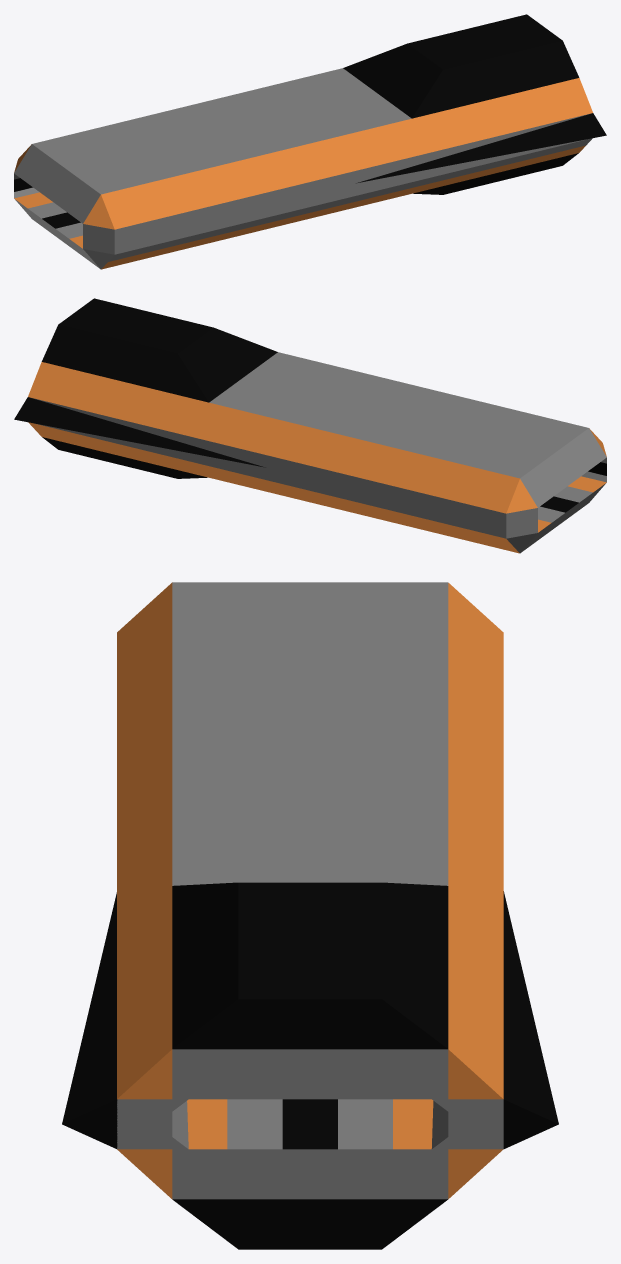
Rendered from Mothership.fbx.
3 renders of one model, top to bottom at view 1: azimuth 30°, elevation 25°; view 2: azimuth 150°, elevation 25°; view 3: azimuth 270°, elevation 25°, orthographic. The views are drawn at different scales.
Parts seen in each view (by area): view 1: MotherShipJoined; view 2: MotherShipJoined; view 3: MotherShipJoined.
Boxes of the visible parts, left/top/right/bottom form: MotherShipJoined: left=14, top=14, right=606, bottom=269; MotherShipJoined: left=14, top=298, right=606, bottom=553; MotherShipJoined: left=62, top=582, right=558, bottom=1249.
Size of the model in its own units: 20750 by 5000 by 9000.
